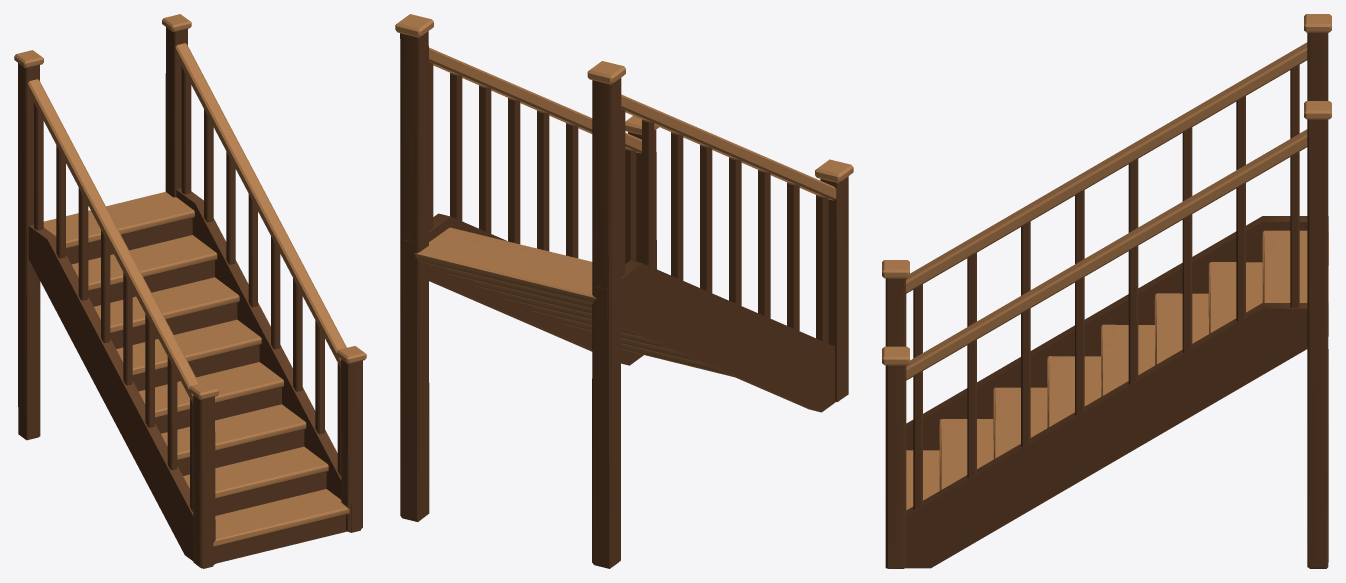
Rendered from wooden_staircase.glb.
3 views of the same model, side by side, from view 1: azimuth 30°, elevation 25°; view 2: azimuth 150°, elevation 25°; view 3: azimuth 270°, elevation 25° (orthographic). The views are drawn at different scales.
Parts seen in each view (by area): view 1: stringer_left, newel_top_left, stringer_right, handrail_left, handrail_right, tread_0, newel_bottom_left, tread_1, tread_7, newel_bottom_right, tread_5, tread_4 (+27 smaller); view 2: stringer_left, newel_top_left, newel_top_right, tread_7, stringer_right, newel_bottom_left, handrail_left, handrail_right, baluster_3_left, baluster_4_left, baluster_5_left, baluster_6_right (+18 smaller); view 3: stringer_right, newel_top_right, stringer_left, handrail_right, handrail_left, newel_bottom_right, tread_7, tread_2, tread_1, tread_6, tread_5, tread_3 (+20 smaller).
Part boxes in pixels (left/top/right/bottom): stringer_left: left=28, top=224, right=213, bottom=568; newel_top_left: left=18, top=63, right=40, bottom=440; stringer_right: left=176, top=188, right=360, bottom=532; handrail_left: left=27, top=79, right=199, bottom=403; handrail_right: left=175, top=43, right=346, bottom=367; tread_0: left=213, top=489, right=349, bottom=546; newel_bottom_left: left=193, top=395, right=215, bottom=568; tread_1: left=183, top=446, right=328, bottom=498; tread_7: left=43, top=192, right=194, bottom=248; newel_bottom_right: left=341, top=359, right=362, bottom=532; tread_5: left=94, top=277, right=239, bottom=333; tread_4: left=116, top=319, right=261, bottom=375; stringer_left: left=594, top=260, right=835, bottom=412; newel_top_left: left=592, top=78, right=621, bottom=568; newel_top_right: left=400, top=31, right=429, bottom=521; tread_7: left=413, top=227, right=596, bottom=304; stringer_right: left=402, top=213, right=643, bottom=365; newel_bottom_left: left=820, top=176, right=848, bottom=401; handrail_left: left=621, top=94, right=836, bottom=200; handrail_right: left=429, top=47, right=641, bottom=153; baluster_3_left: left=729, top=157, right=741, bottom=305; baluster_4_left: left=700, top=144, right=712, bottom=292; baluster_5_left: left=671, top=132, right=683, bottom=280; baluster_6_right: left=450, top=72, right=462, bottom=220; stringer_right: left=885, top=303, right=1328, bottom=568; newel_top_right: left=1307, top=119, right=1328, bottom=568; stringer_left: left=906, top=216, right=1328, bottom=450; handrail_right: left=906, top=129, right=1307, bottom=380; handrail_left: left=906, top=42, right=1307, bottom=293; newel_bottom_right: left=885, top=365, right=906, bottom=568; tread_7: left=1262, top=230, right=1328, bottom=302; tread_2: left=993, top=387, right=1047, bottom=459; tread_1: left=939, top=419, right=993, bottom=490; tread_6: left=1208, top=262, right=1262, bottom=333; tread_5: left=1154, top=293, right=1208, bottom=365; tread_3: left=1047, top=356, right=1101, bottom=427.
Size of what is drawn, in the model's own units: 1.22 by 2.64 by 2.34.
